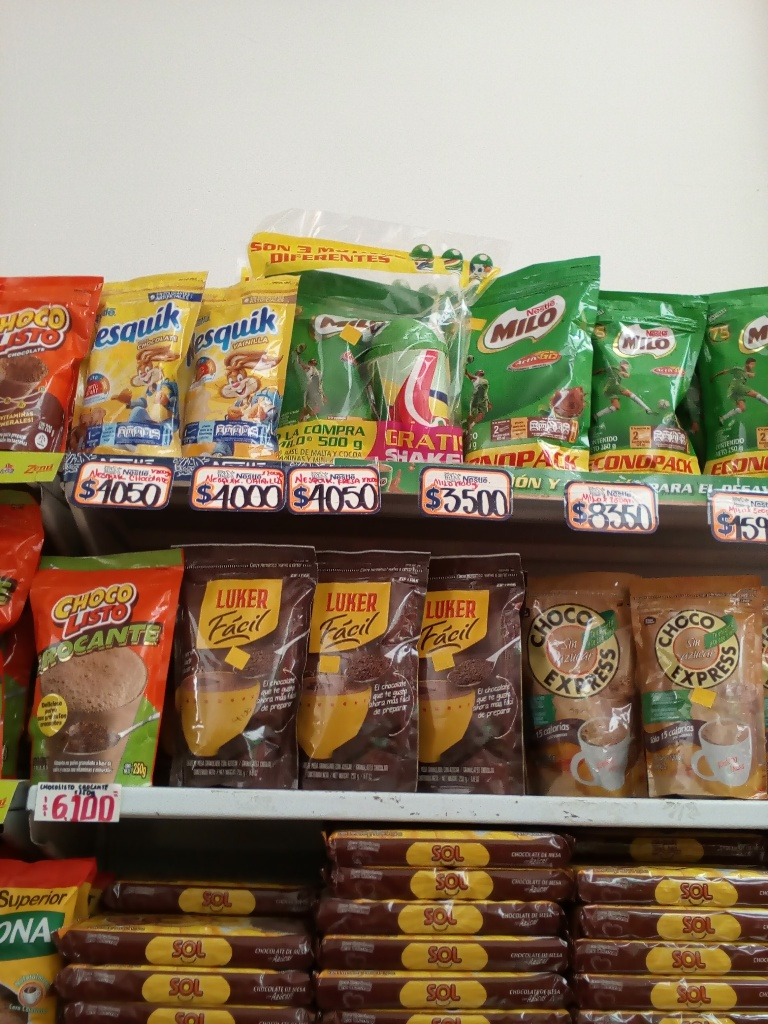COL0170303DYP20000: (75, 268, 199, 457)
COL0170306DYP20000: (181, 264, 301, 470)
